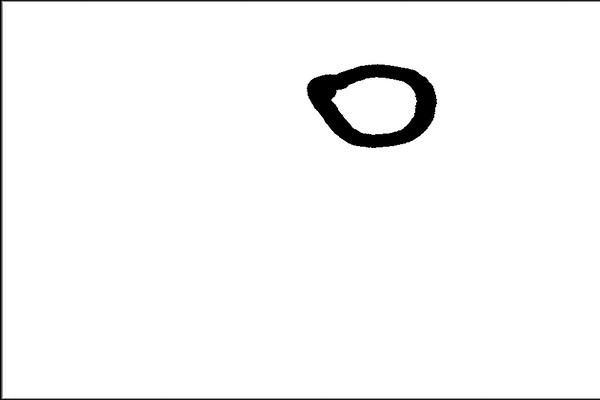O: (295, 49, 445, 162)
